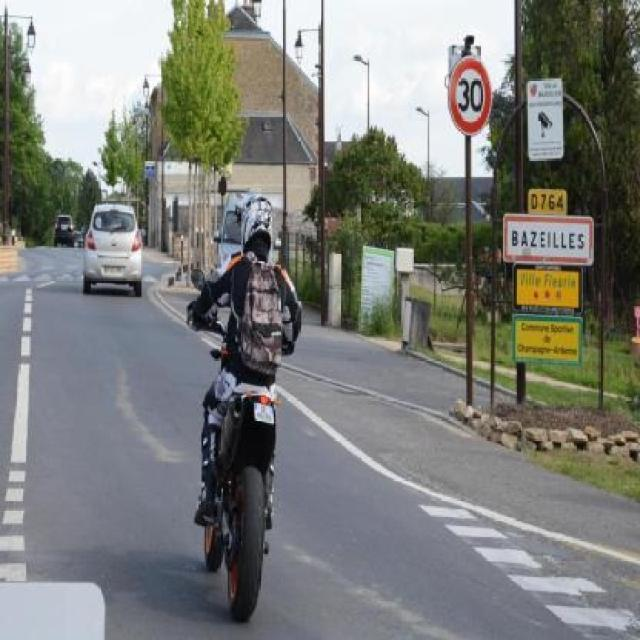forb_speed_over_30: (446, 58, 491, 133)
